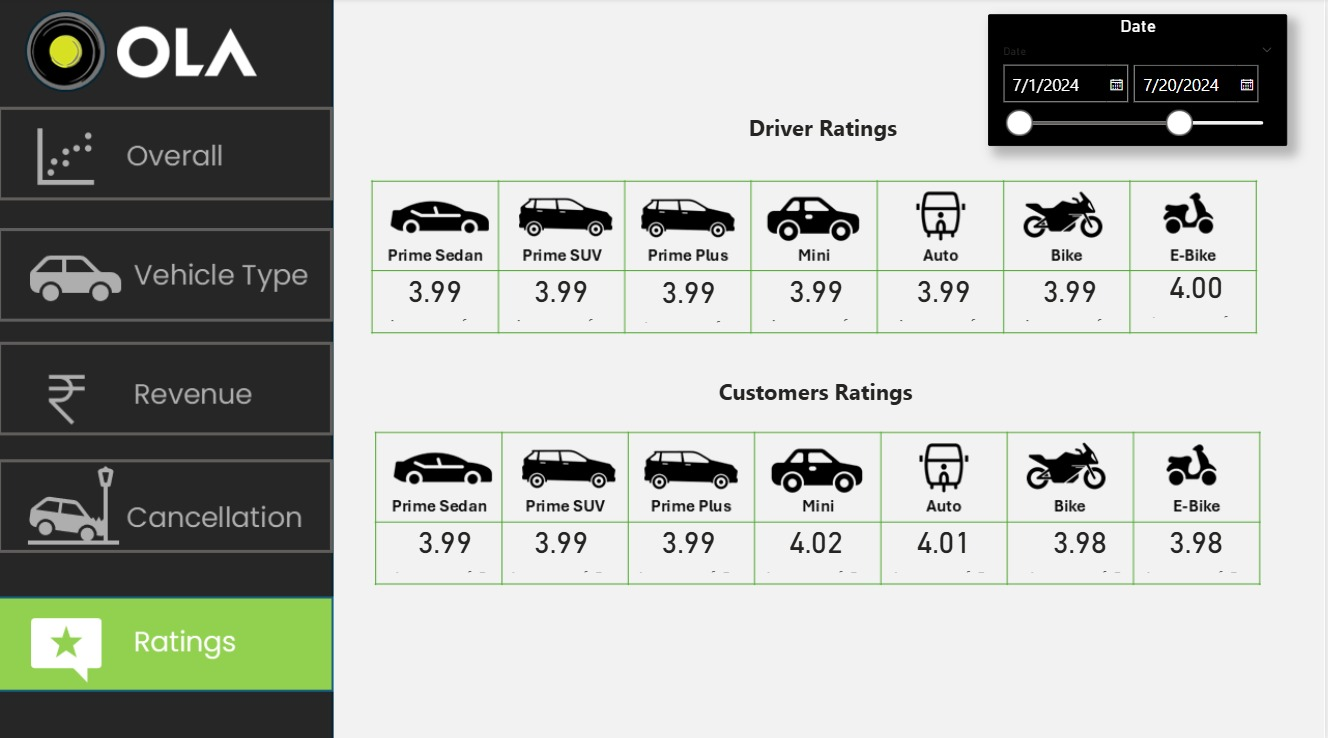

What the dashboard file says about the page in this screenshot:
{"tool":"powerbi","page":{"name":"Ratings","canvas":[1280,720],"ordinal":4},"visuals":[{"type":"actionButton","box":[0,222,323.3,90.5],"z":0},{"type":"actionButton","box":[0,331.8,323.3,90.5],"z":1000},{"type":"actionButton","box":[0,445.2,323.3,90.5],"z":2000},{"type":"actionButton","box":[0,105,323.3,90.5],"z":3000},{"type":"card","fields":{"Values":["Avg(July.Driver_Ratings)"]},"box":[365,267.5,112.5,48.8],"z":3001},{"type":"card","fields":{"Values":["Avg(July.Driver_Ratings)"]},"box":[487.5,267.5,112.5,48.8],"z":3002},{"type":"card","fields":{"Values":["Avg(July.Driver_Ratings)"]},"box":[610,268.8,112.5,48.8],"z":3003},{"type":"card","fields":{"Values":["Avg(July.Driver_Ratings)"]},"box":[733.8,267.5,112.5,48.8],"z":3004},{"type":"card","fields":{"Values":["Avg(July.Driver_Ratings)"]},"box":[856.2,267.5,112.5,48.8],"z":3005},{"type":"card","fields":{"Values":["Avg(July.Driver_Ratings)"]},"box":[978.8,267.5,112.5,48.8],"z":3006},{"type":"card","fields":{"Values":["Avg(July.Driver_Ratings)"]},"box":[1100,263.8,112.5,48.8],"z":3007},{"type":"textbox","box":[678.8,105,233.8,38.8],"z":3008},{"type":"textbox","box":[666.2,360,246.2,48.8],"z":3009},{"type":"card","fields":{"Values":["Avg(July.Customer_Rating)"]},"box":[375,510,112.5,48.8],"z":3010},{"type":"card","fields":{"Values":["Avg(July.Customer_Rating)"]},"box":[487.5,510,112.5,48.8],"z":3011},{"type":"card","fields":{"Values":["Avg(July.Customer_Rating)"]},"box":[610,510,112.5,48.8],"z":3012},{"type":"card","fields":{"Values":["Avg(July.Customer_Rating)"]},"box":[733.8,510,112.5,48.8],"z":3013},{"type":"card","fields":{"Values":["Avg(July.Customer_Rating)"]},"box":[856.2,510,112.5,48.8],"z":3014},{"type":"card","fields":{"Values":["Avg(July.Customer_Rating)"]},"box":[987.5,510,112.5,48.8],"z":3015},{"type":"card","fields":{"Values":["Avg(July.Customer_Rating)"]},"box":[1100,510,112.5,48.8],"z":3016},{"type":"slicer","title":"Date","fields":{"Values":["July.Date"]},"box":[955,16.2,288.8,127.5],"z":3017}]}

Visuals, with their boxes in screenshot pixels (x1, y1, x2, y2), scaled from the page's 1280x720 canvas onto the 1328x738 screenshot:
actionButton: Rect(0, 228, 335, 320)
actionButton: Rect(0, 340, 335, 433)
actionButton: Rect(0, 456, 335, 549)
actionButton: Rect(0, 108, 335, 200)
card - Avg(July.Driver_Ratings): Rect(379, 274, 495, 324)
card - Avg(July.Driver_Ratings): Rect(506, 274, 622, 324)
card - Avg(July.Driver_Ratings): Rect(633, 276, 750, 326)
card - Avg(July.Driver_Ratings): Rect(761, 274, 878, 324)
card - Avg(July.Driver_Ratings): Rect(888, 274, 1005, 324)
card - Avg(July.Driver_Ratings): Rect(1016, 274, 1132, 324)
card - Avg(July.Driver_Ratings): Rect(1141, 270, 1258, 320)
textbox: Rect(704, 108, 947, 147)
textbox: Rect(691, 369, 947, 419)
card - Avg(July.Customer_Rating): Rect(389, 523, 506, 573)
card - Avg(July.Customer_Rating): Rect(506, 523, 622, 573)
card - Avg(July.Customer_Rating): Rect(633, 523, 750, 573)
card - Avg(July.Customer_Rating): Rect(761, 523, 878, 573)
card - Avg(July.Customer_Rating): Rect(888, 523, 1005, 573)
card - Avg(July.Customer_Rating): Rect(1025, 523, 1141, 573)
card - Avg(July.Customer_Rating): Rect(1141, 523, 1258, 573)
"Date" slicer: Rect(991, 17, 1290, 147)
